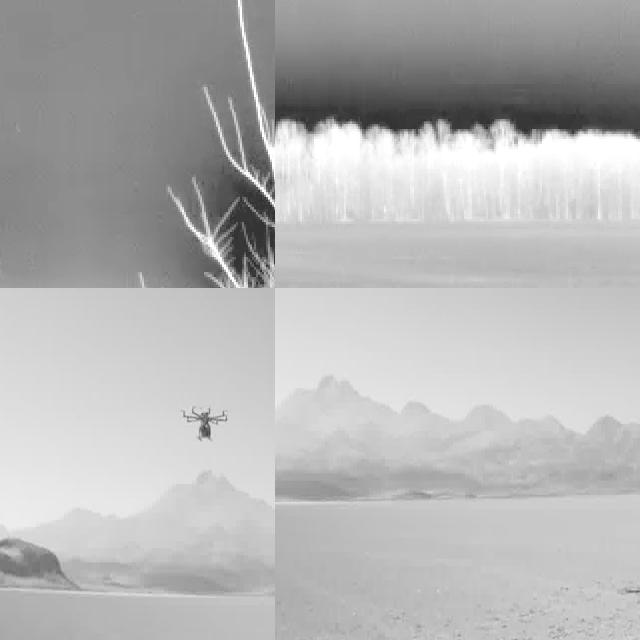0: (1, 117, 29, 147)
drone: (179, 400, 230, 449)
